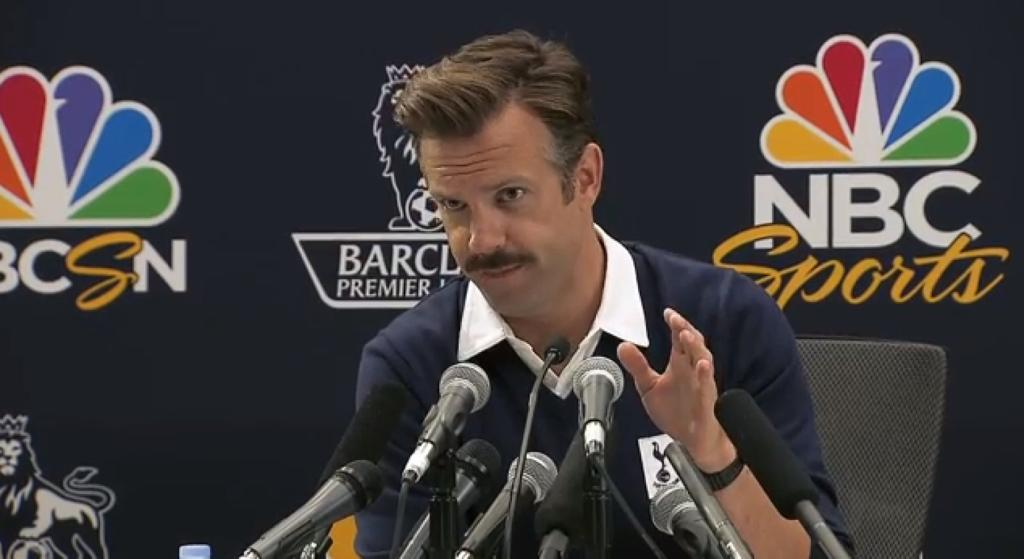face: (419, 127, 581, 317)
